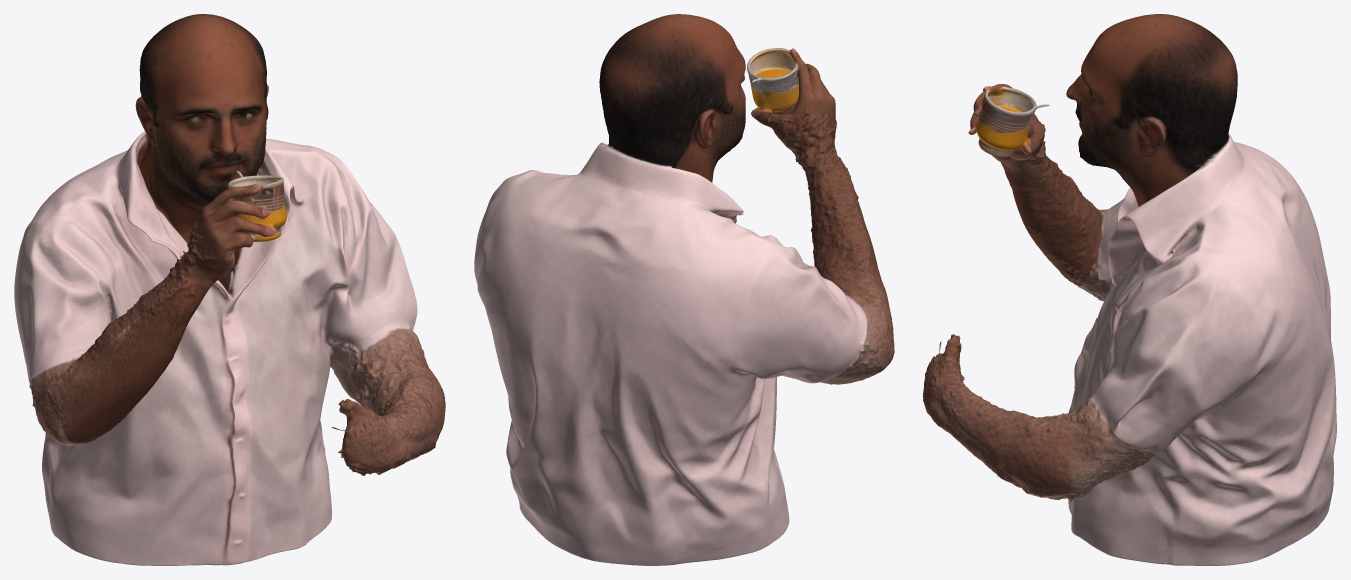
Rendered from jailson.glb.
3 renders of one model, left to right at view 1: azimuth 30°, elevation 25°; view 2: azimuth 150°, elevation 25°; view 3: azimuth 270°, elevation 25°, orthographic. The views are drawn at different scales.
Bounding box in the file's own units: 1.52 × 1.9 × 1.45.
Materials: 1 (1 with a texture image).
